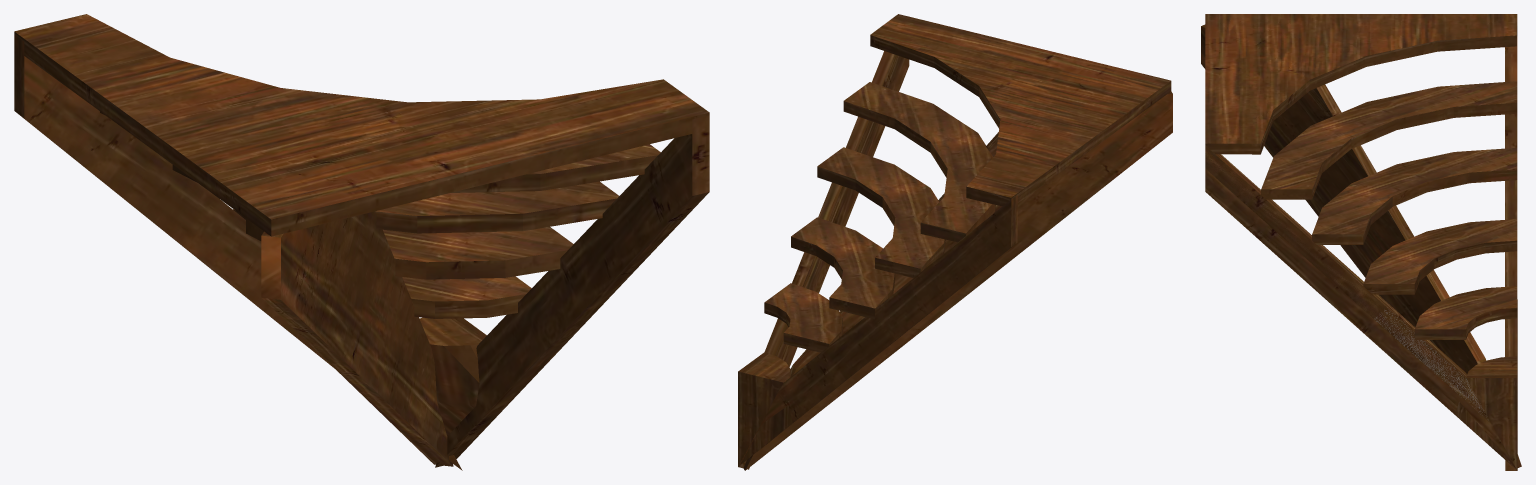
The picture shows the model from 3 angles, left to right: view 1: azimuth 30°, elevation 25°; view 2: azimuth 150°, elevation 25°; view 3: azimuth 270°, elevation 25°; orthographic projection. The views are drawn at different scales.
Parts seen in each view (by area): view 1: SM_BB_T2_Stairs_InnerCornerCurve_LOD0; view 2: SM_BB_T2_Stairs_InnerCornerCurve_LOD0; view 3: SM_BB_T2_Stairs_InnerCornerCurve_LOD0.
Boxes of the visible parts, x1,y1,x2,y2 form: SM_BB_T2_Stairs_InnerCornerCurve_LOD0: [14, 14, 709, 470]; SM_BB_T2_Stairs_InnerCornerCurve_LOD0: [738, 14, 1172, 470]; SM_BB_T2_Stairs_InnerCornerCurve_LOD0: [1201, 14, 1521, 470].
Size of the model in its own units: 1.52 by 1.76 by 1.56.
Materials: 1 (1 with a texture image).
